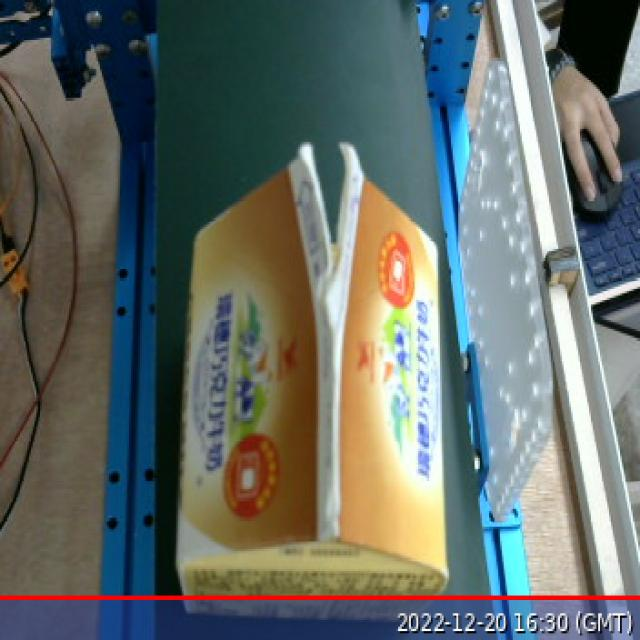non_white_jug: (166, 130, 457, 630)
